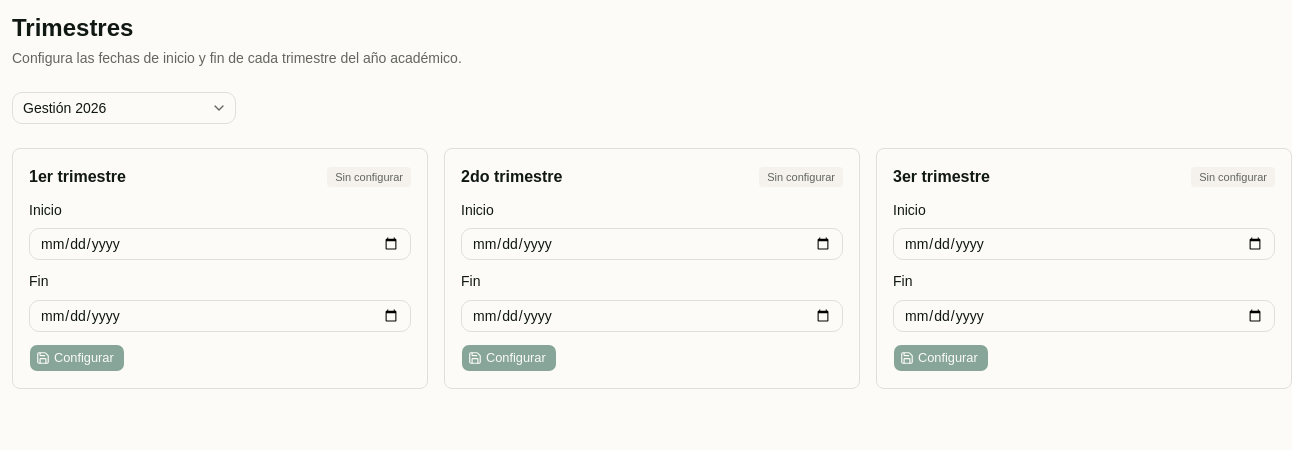
Scenario: TrimesterPeriodsPage › renders a closed year read-only with a note
This screenshot has width=1292, height=450.
Click the dropdown.
click(124, 108)  # box [12,92,236,124]
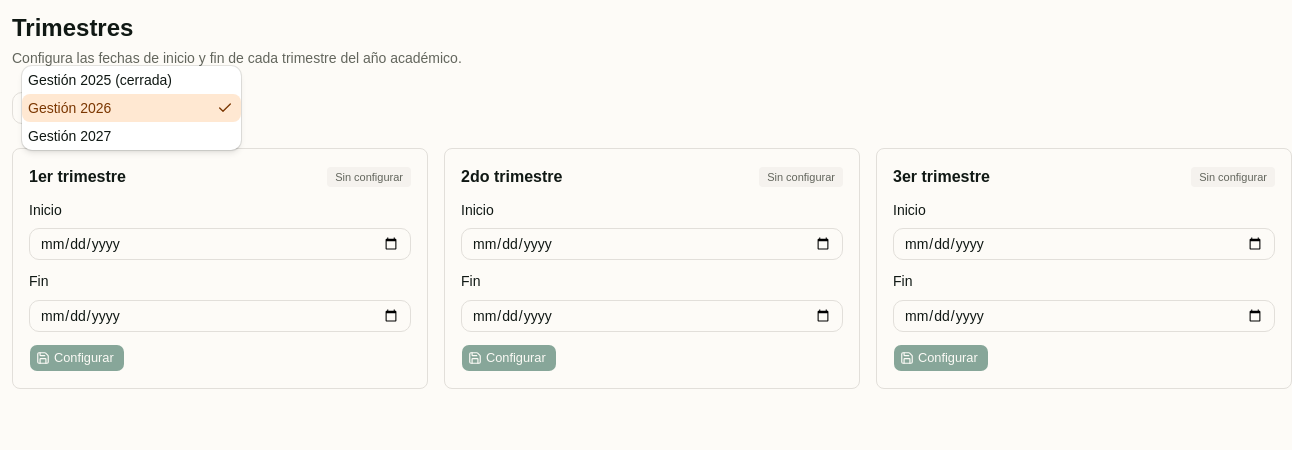
Click the option "Gestión 2025 (cerrada)".
click(100, 80)  # box [28,72,172,88]
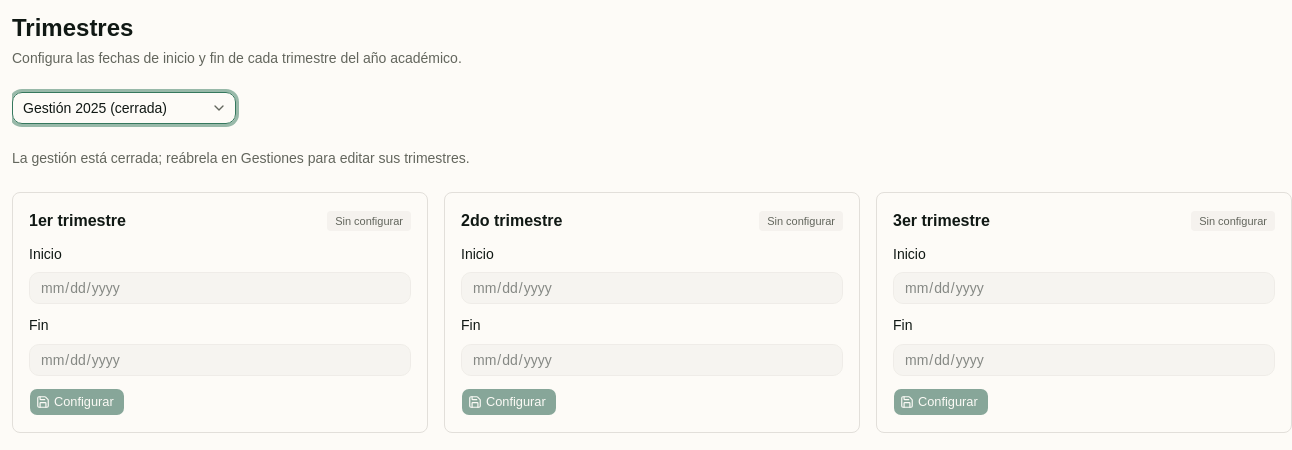
Expected: the text "La gestión está cerrada; reábrela en Gestiones para editar sus trimestres." is shown, [12,150,470,166]
Expected: the date field labelled "Inicio" below "1er" is disabled, [29,272,411,304]
Expected: the date field labelled "Fin" below "1er" is disabled, [29,344,411,376]
